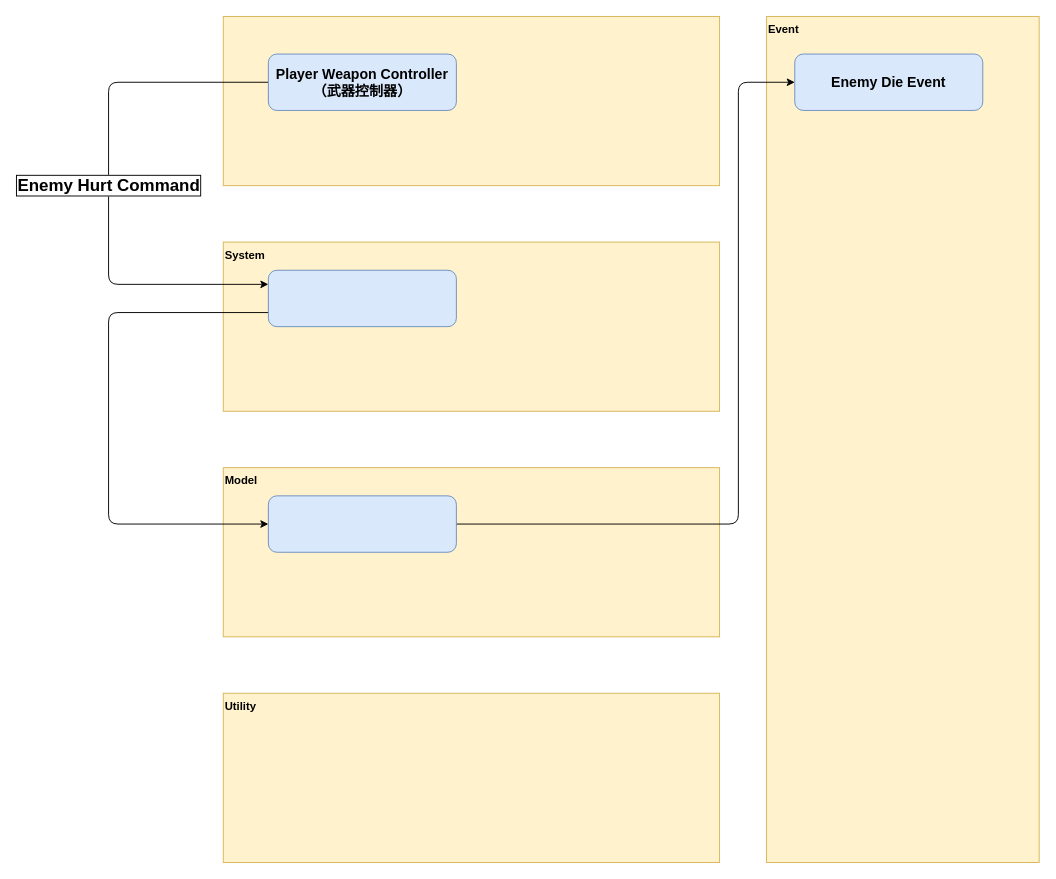
This 1056x879 diagram has some shape labels left out. Each missing label, with the box of its shape:
Battle System （战斗相关操作）: (267, 269, 456, 327)
Enemy Model （存储所有敌人战斗数据）: (267, 495, 456, 552)
View Controller: (222, 16, 720, 186)
